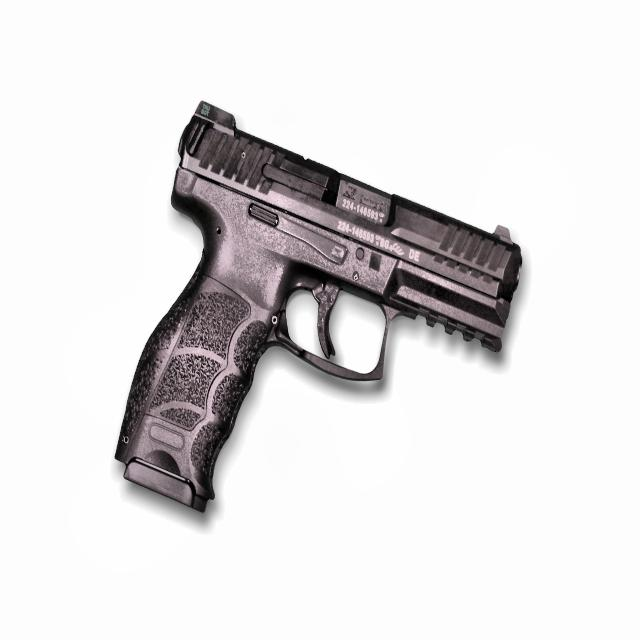HKVP9: (104, 82, 540, 534)
